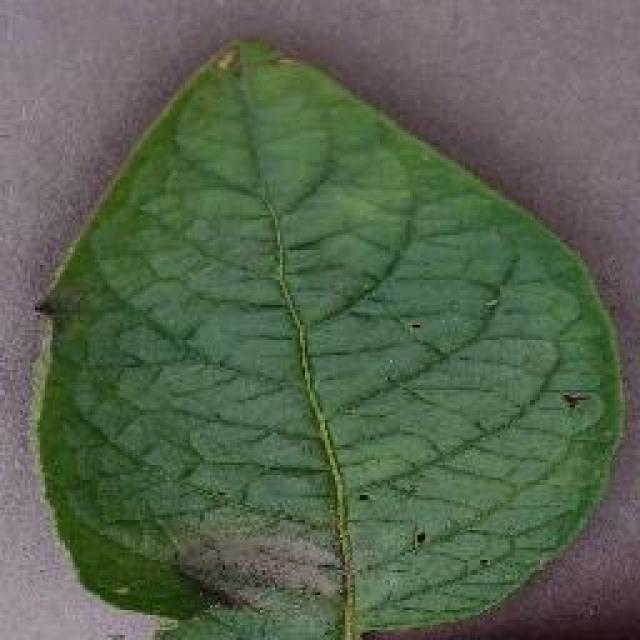late_blight: (25, 32, 627, 638)
